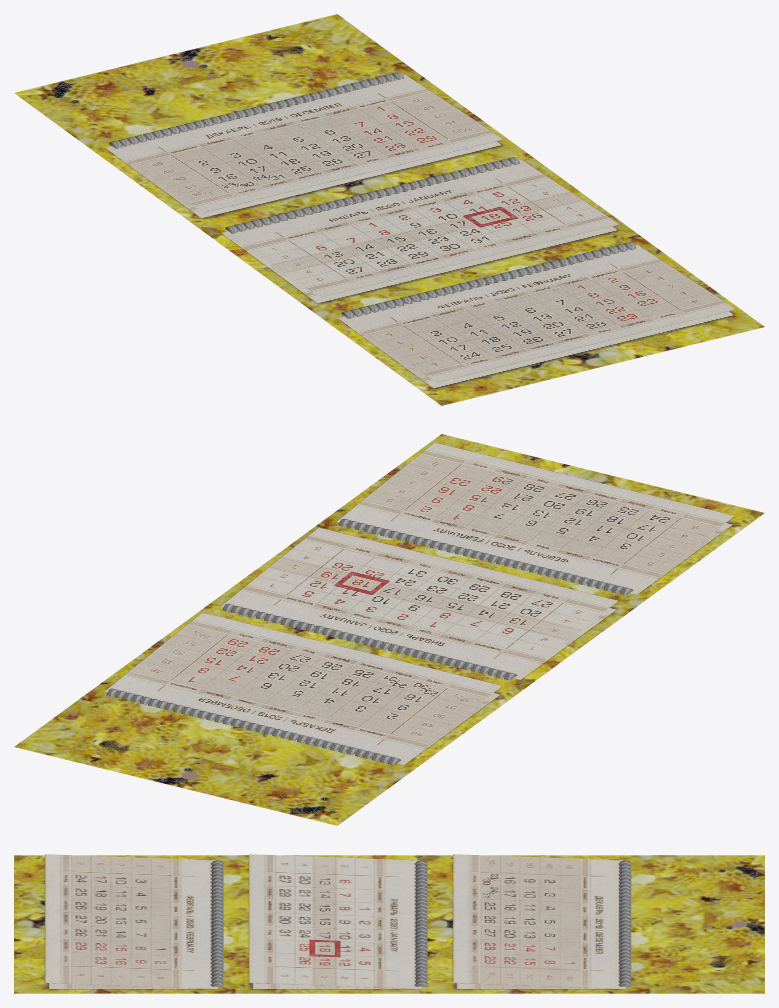
Rendered from SM_Poster_02.fbx.
3 views of the same model, one above another, from view 1: azimuth 30°, elevation 25°; view 2: azimuth 150°, elevation 25°; view 3: azimuth 270°, elevation 25° (orthographic). The views are drawn at different scales.
Visible parts, largest first — view 1: SM_Poster_02; view 2: SM_Poster_02; view 3: SM_Poster_02.
Part boxes in pixels (x1=…): SM_Poster_02: x1=14, y1=14, x2=764, y2=405; SM_Poster_02: x1=14, y1=434, x2=764, y2=825; SM_Poster_02: x1=14, y1=854, x2=764, y2=993.
Bounding box in the file's own units: 63.4 × 1.65 × 145.
